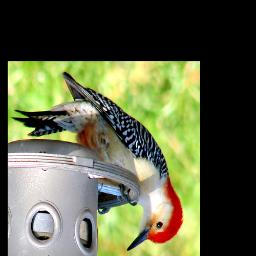Woodpecker: (12, 70, 183, 251)
